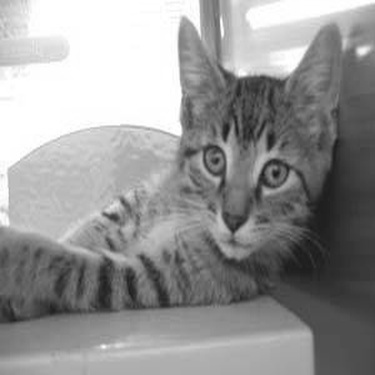cat: (1, 20, 341, 303)
